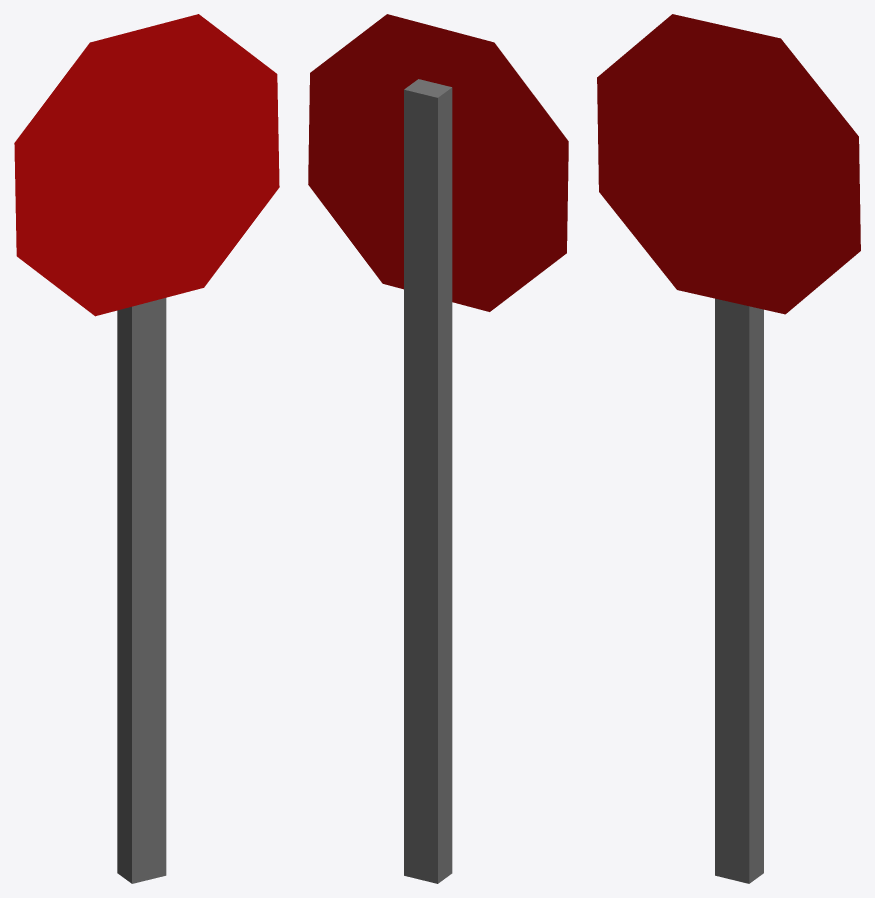
The model's file is stopsign.obj.
The picture shows the model from 3 angles, left to right: view 1: azimuth 30°, elevation 25°; view 2: azimuth 150°, elevation 25°; view 3: azimuth 330°, elevation 25°; orthographic projection.
Size of the model in its own units: 3.72 by 11.49 by 0.3749.
